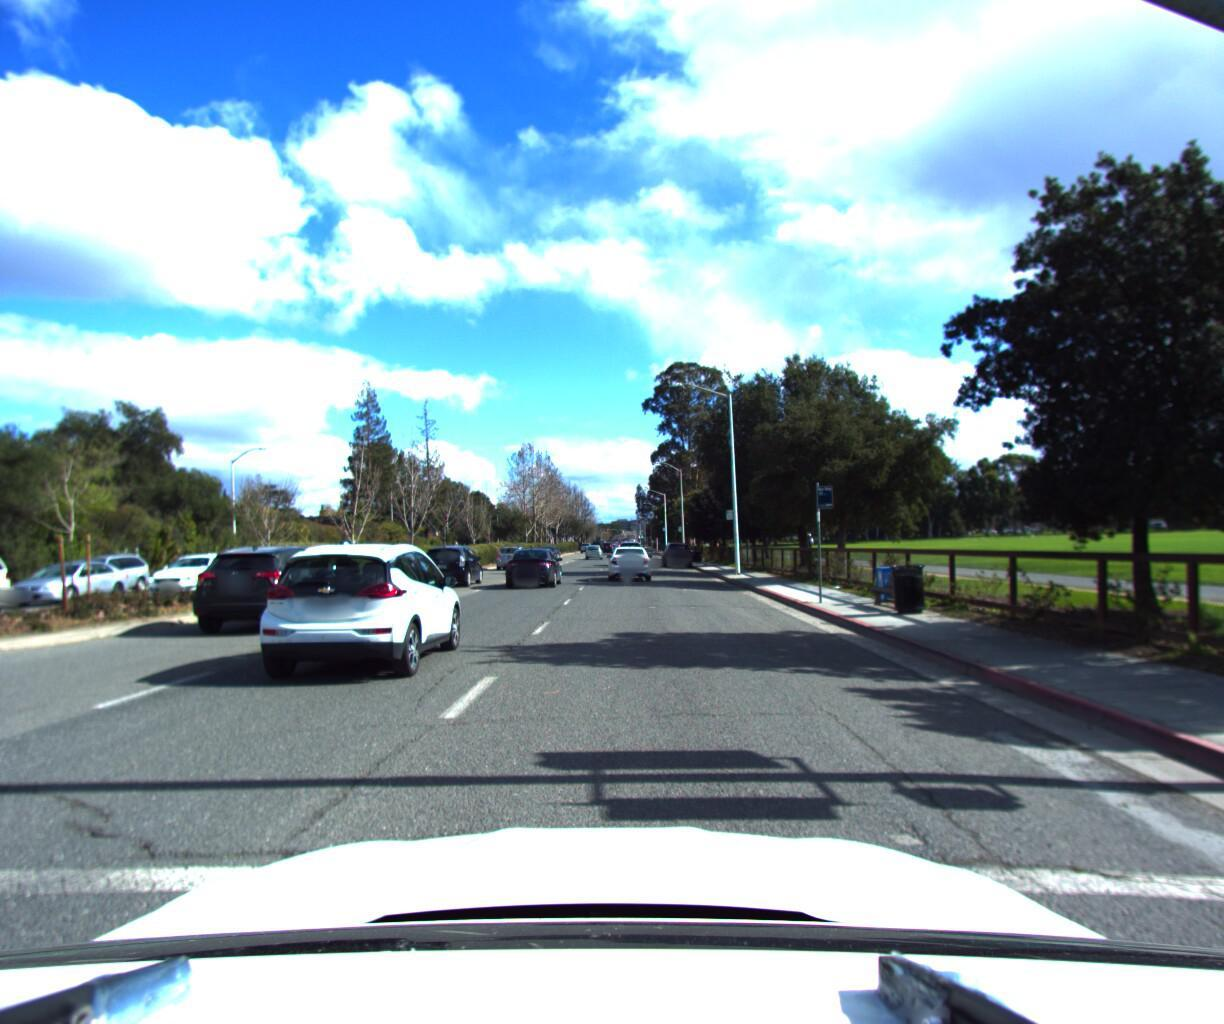car: (247, 539, 471, 700), (189, 542, 366, 641), (3, 562, 136, 609), (42, 557, 159, 603), (141, 554, 251, 602), (416, 547, 489, 592), (503, 544, 563, 593), (604, 539, 652, 584), (491, 545, 533, 574), (657, 544, 696, 573), (582, 545, 600, 560)
